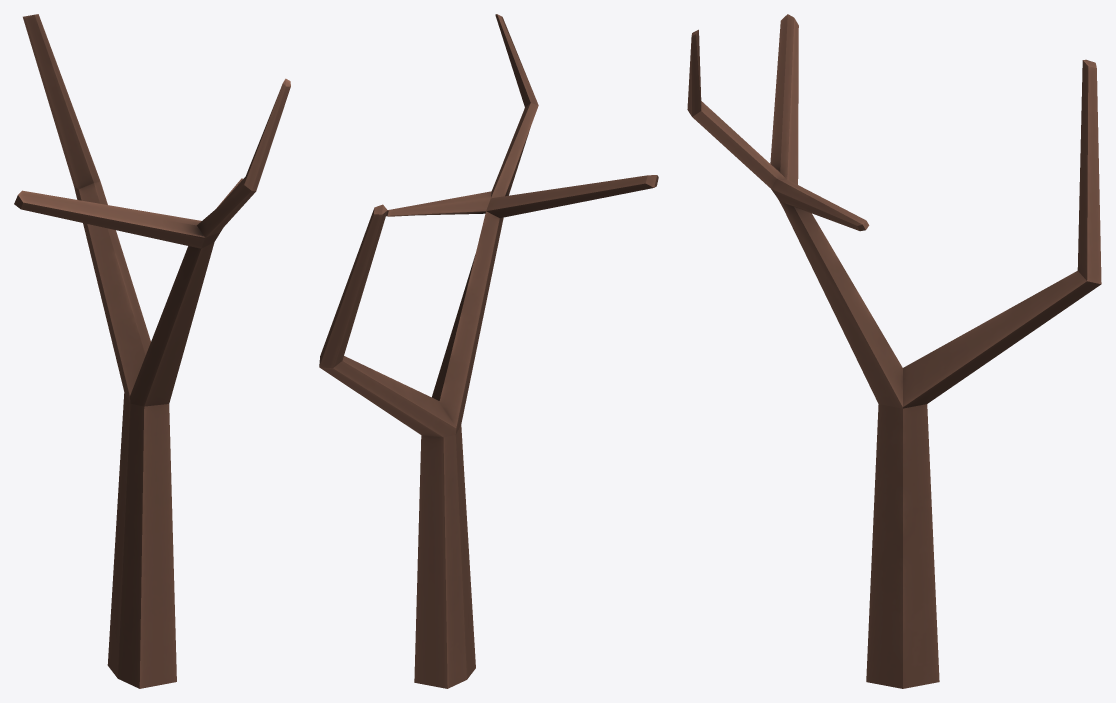
File: Tree_8.fbx
3 renders of one model, left to right at view 1: azimuth 30°, elevation 25°; view 2: azimuth 150°, elevation 25°; view 3: azimuth 270°, elevation 25°, orthographic. The views are drawn at different scales.
Parts seen in each view (by area): view 1: Tree_8; view 2: Tree_8; view 3: Tree_8.
Part boxes in pixels (x1=…): Tree_8: x1=14, y1=14, x2=290, y2=688; Tree_8: x1=319, y1=14, x2=658, y2=688; Tree_8: x1=687, y1=14, x2=1101, y2=688.
Size of the model in its own units: 49.13 by 65.08 by 115.
Materials: 1 (1 with a texture image).
